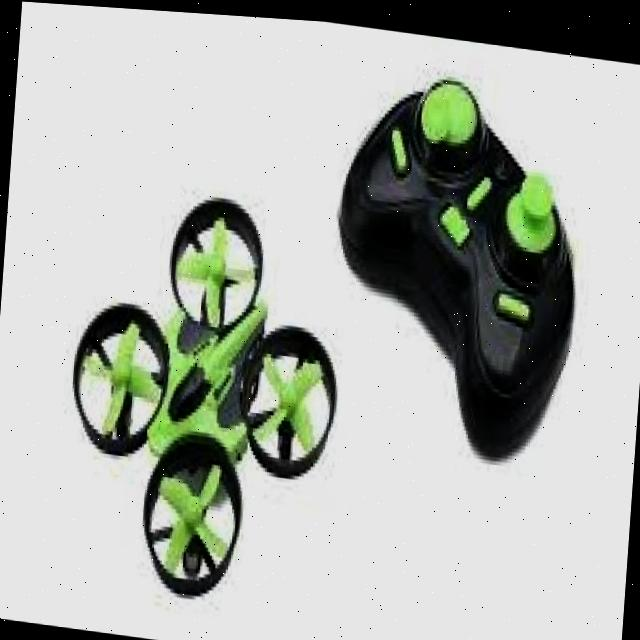drone: (51, 166, 358, 628)
